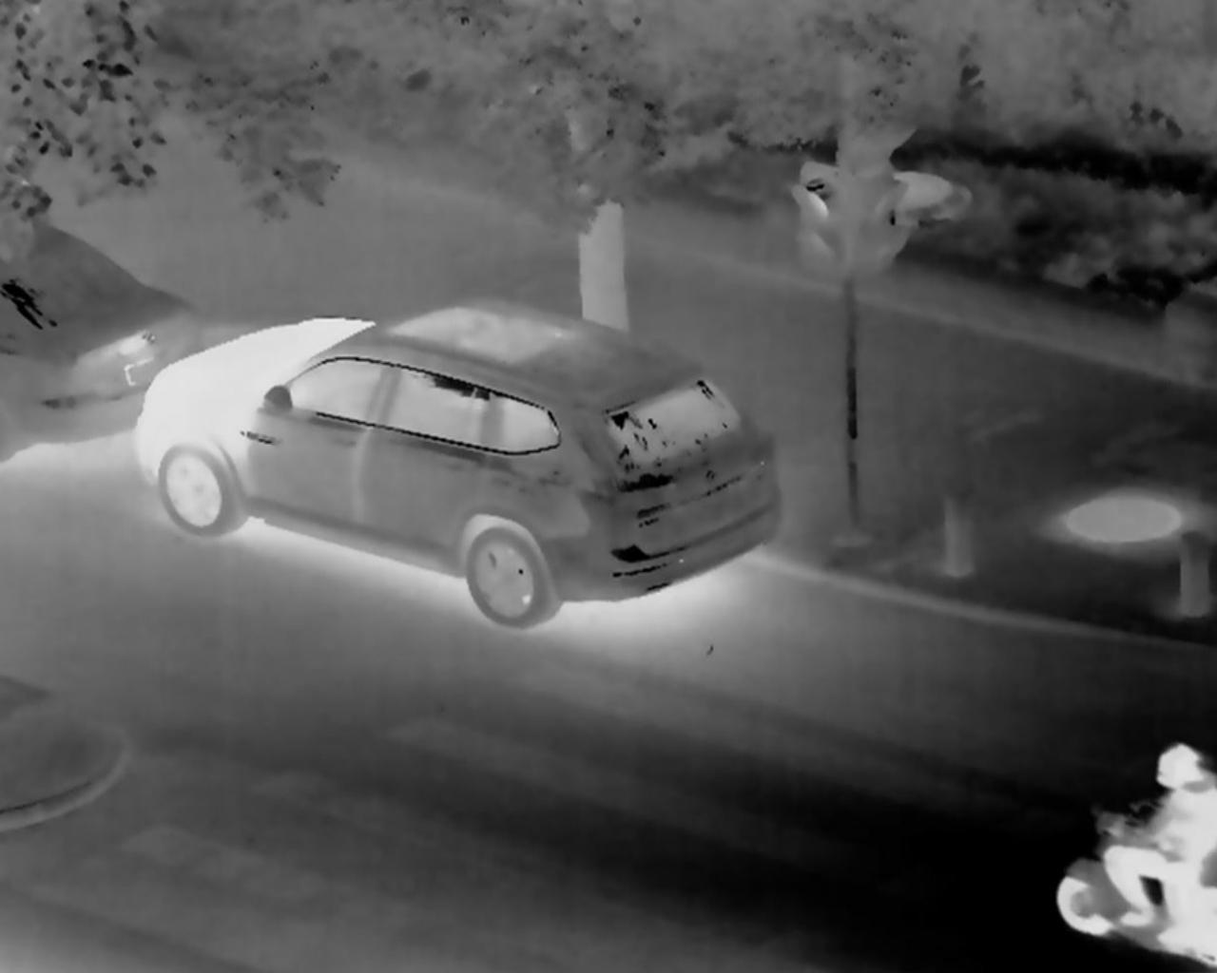person: (1102, 734, 1217, 936)
